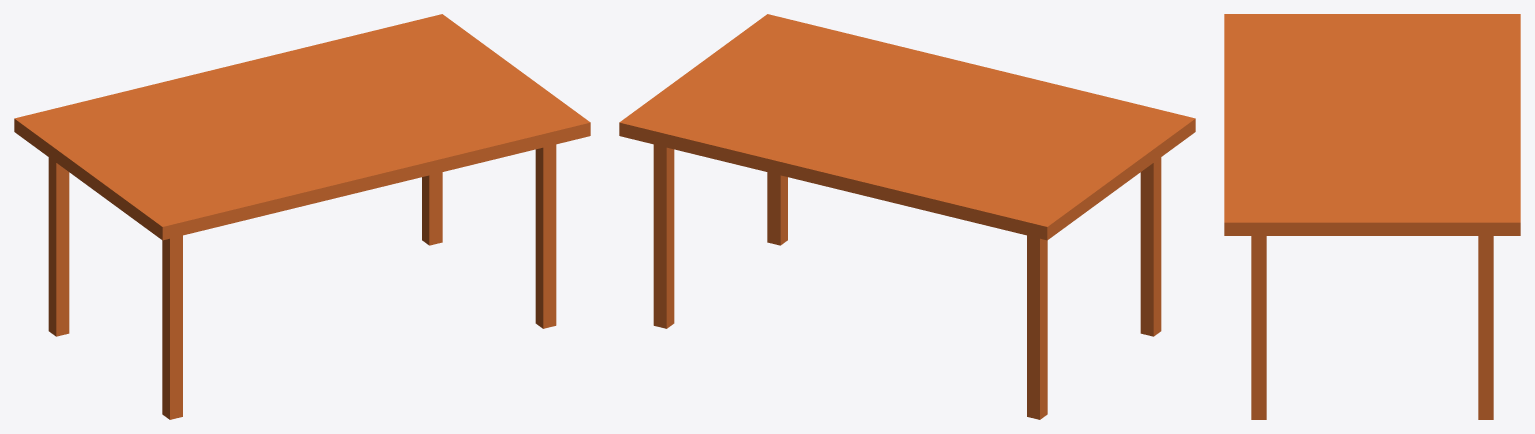
File: Table.fbx
3 renders of one model, left to right at view 1: azimuth 30°, elevation 25°; view 2: azimuth 150°, elevation 25°; view 3: azimuth 270°, elevation 25°, orthographic.
Visible parts, largest first — view 1: Table.1; view 2: Table.1; view 3: Table.1.
Part boxes in pixels (x1,y1,x2,y2): Table.1: (14, 14, 590, 419); Table.1: (619, 14, 1195, 419); Table.1: (1224, 14, 1520, 419).
Size of the model in its own units: 200 by 92.81 by 120.
